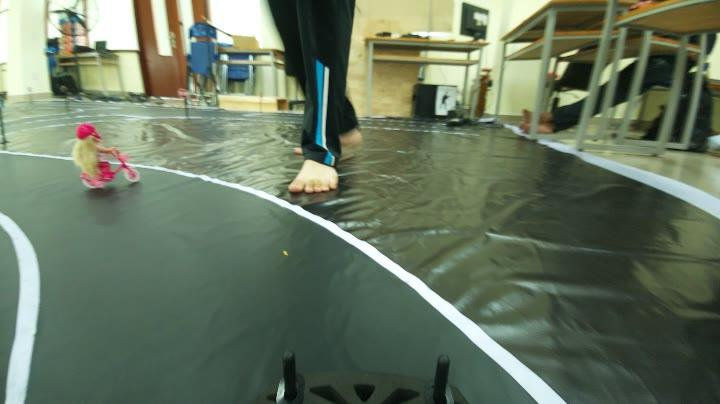pedestrian: (56, 116, 142, 186)
